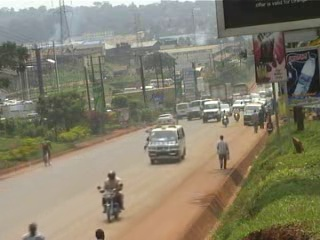Car: (200, 99, 222, 121), (156, 112, 179, 129), (185, 104, 204, 120), (230, 98, 246, 111), (220, 102, 231, 116)
Motorcycle: (95, 170, 128, 223), (219, 108, 229, 128), (231, 106, 240, 121)
